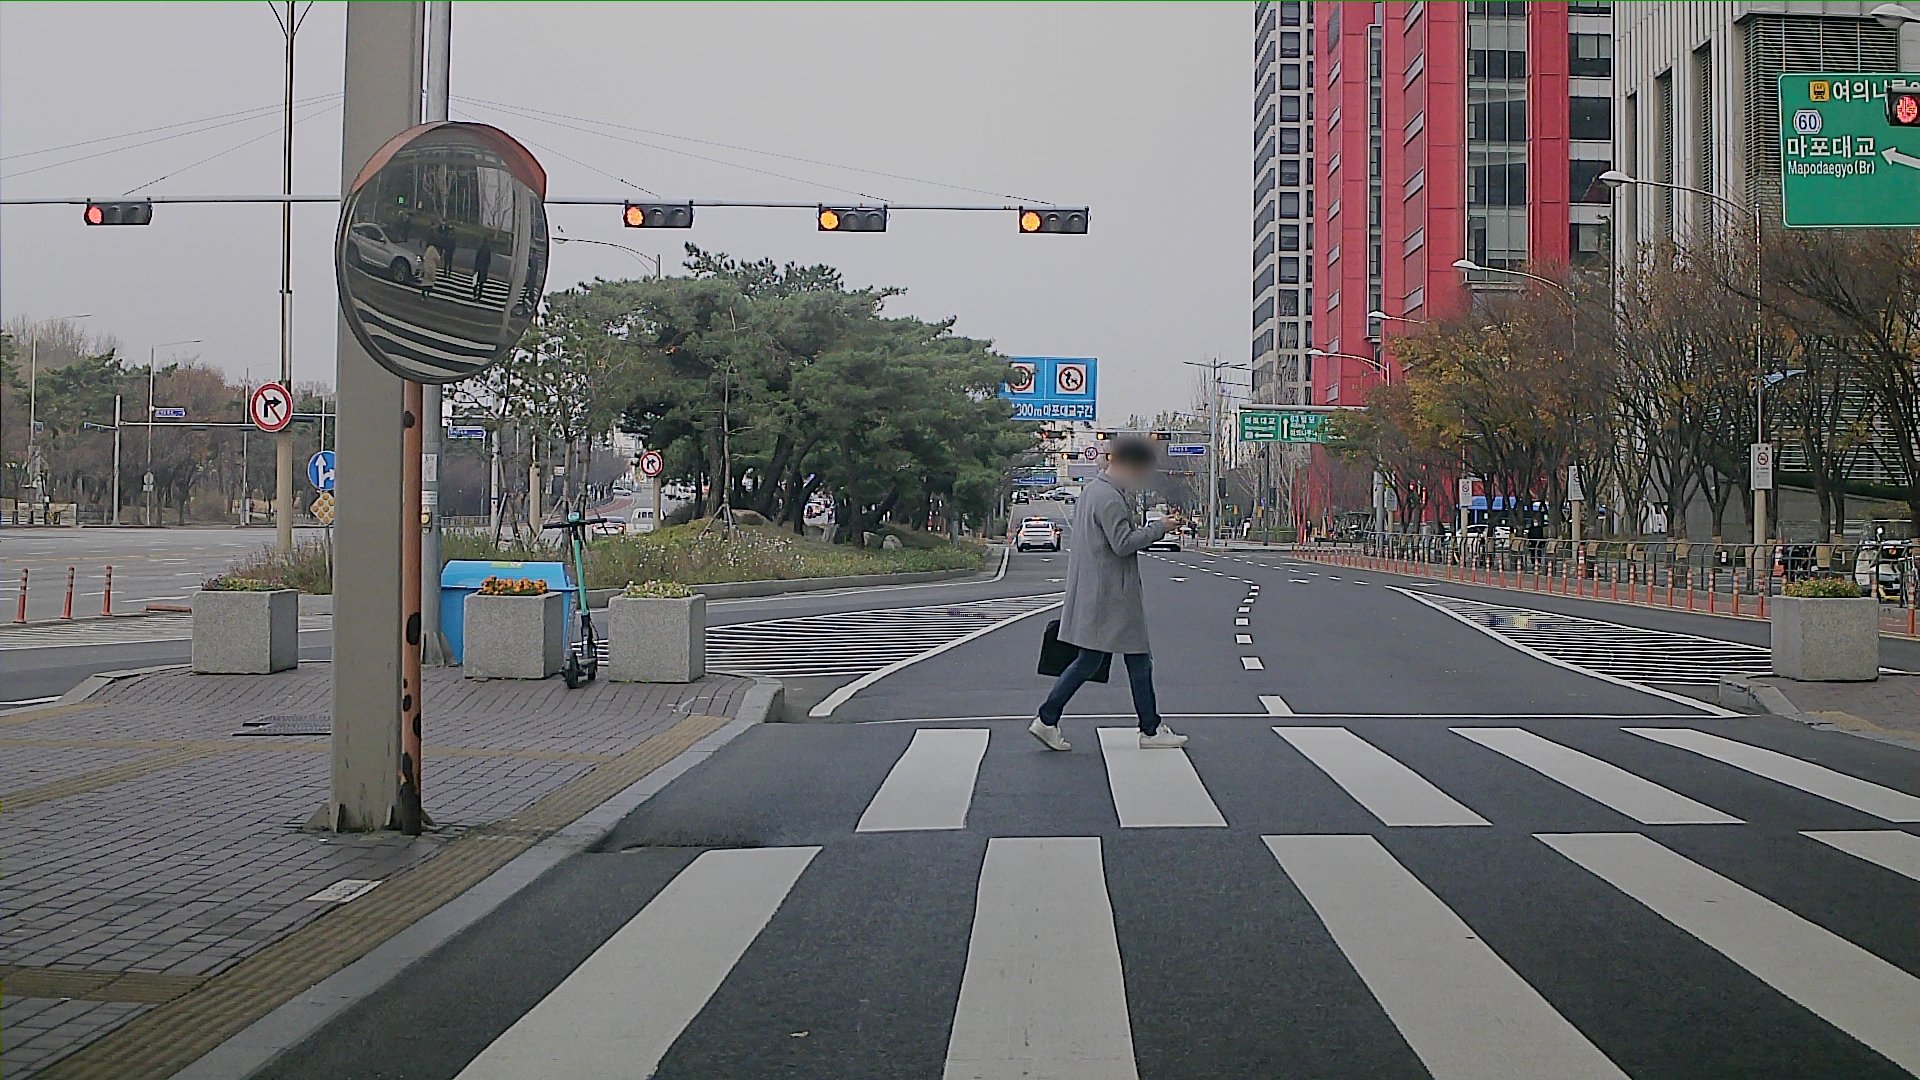trafficLight: (78, 190, 1095, 243), (1887, 90, 1917, 123)
trafficSignCircle: (253, 384, 293, 429), (305, 450, 336, 491)
trafficSignRTG: (978, 355, 1100, 425)
